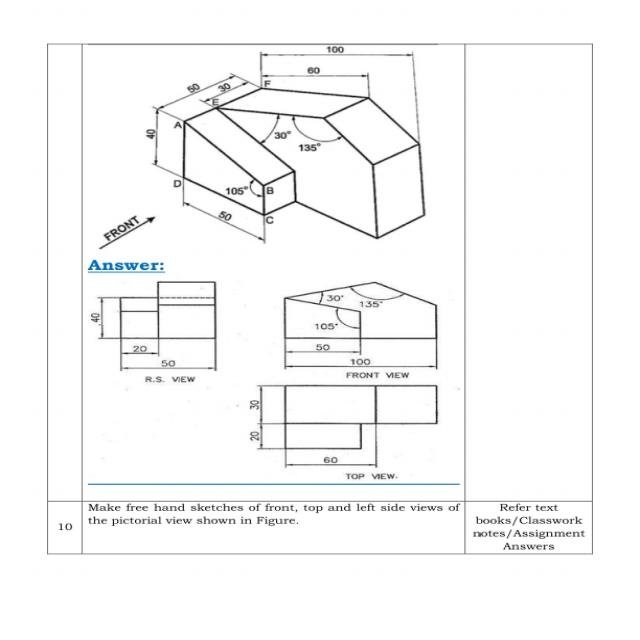Drawings: (140, 44, 433, 244), (246, 381, 442, 470), (275, 278, 444, 371), (88, 278, 224, 374)
